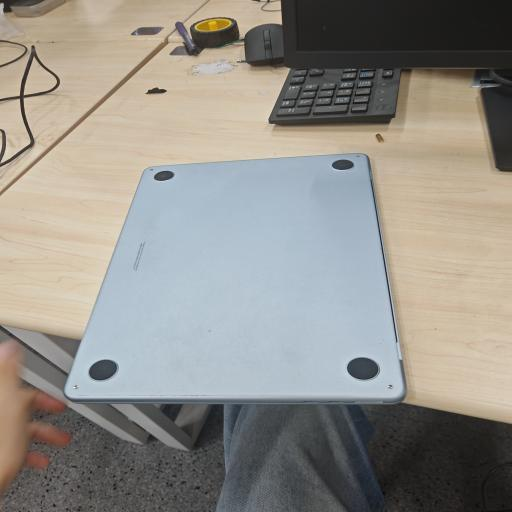laptop: (64, 154, 406, 403)
mouse: (244, 24, 284, 66)
